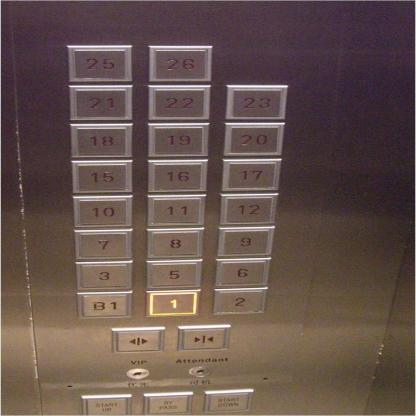1: (145, 289, 200, 317)
10: (72, 194, 133, 227)
11: (144, 193, 204, 226)
12: (218, 193, 278, 224)
15: (69, 160, 133, 192)
16: (146, 159, 208, 193)
17: (220, 158, 280, 192)
18: (66, 123, 134, 157)
19: (146, 122, 207, 156)
2: (211, 287, 266, 313)
20: (222, 122, 285, 155)
21: (67, 83, 133, 120)
22: (147, 84, 209, 119)
23: (224, 85, 288, 119)
25: (65, 44, 132, 82)
26: (147, 44, 212, 82)
3: (73, 260, 133, 289)
5: (144, 259, 202, 288)
6: (214, 256, 269, 286)
7: (72, 228, 132, 259)
8: (145, 227, 201, 258)
9: (216, 225, 273, 256)
B1: (74, 290, 132, 319)
close: (175, 324, 230, 351)
keyhole: (125, 368, 152, 379), (188, 366, 212, 377)
open: (109, 326, 165, 353)
text: (203, 388, 253, 412), (143, 391, 193, 414), (79, 394, 132, 415)
